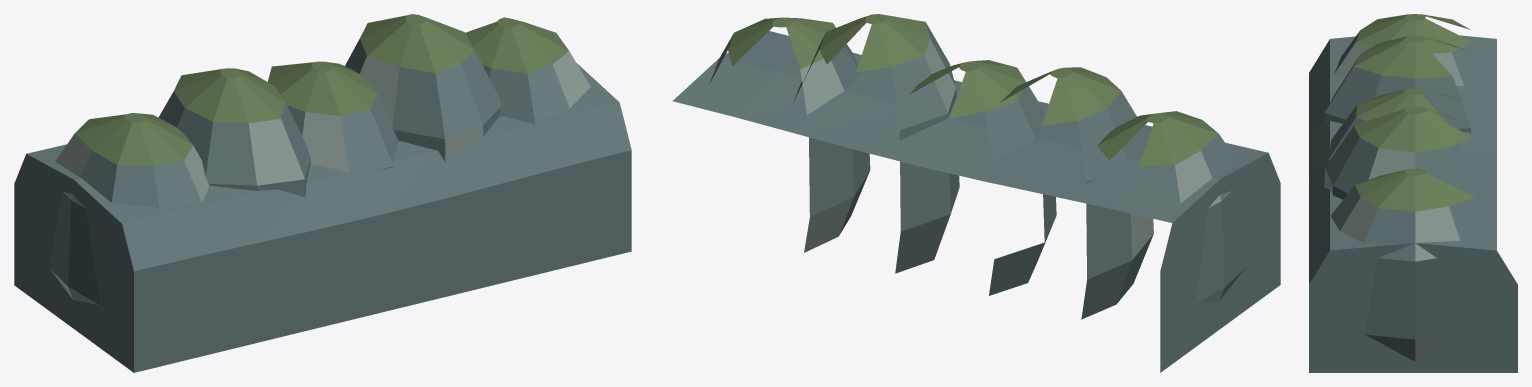
Rendered from edge_rock_wall.glb.
The picture shows the model from 3 angles, left to right: view 1: azimuth 30°, elevation 25°; view 2: azimuth 150°, elevation 25°; view 3: azimuth 270°, elevation 25°; orthographic projection. The views are drawn at different scales.
Visible parts, largest first — view 1: Rock_Mesh, Moss_Mesh, RockLight_Mesh; view 2: Rock_Mesh, Moss_Mesh, RockLight_Mesh; view 3: Rock_Mesh, Moss_Mesh, RockLight_Mesh.
Boxes of the visible parts, x1,y1,x2,y2 form: Rock_Mesh: (14,38,631,372); Moss_Mesh: (75,14,568,165); RockLight_Mesh: (50,51,590,299); Rock_Mesh: (672,23,1280,372); Moss_Mesh: (728,14,1218,166); RockLight_Mesh: (709,33,1224,303); Rock_Mesh: (1309,31,1517,372); Moss_Mesh: (1354,14,1475,211); RockLight_Mesh: (1324,42,1463,361).
Bounding box in the file's own units: 6.2 × 2.6 × 2.5.
